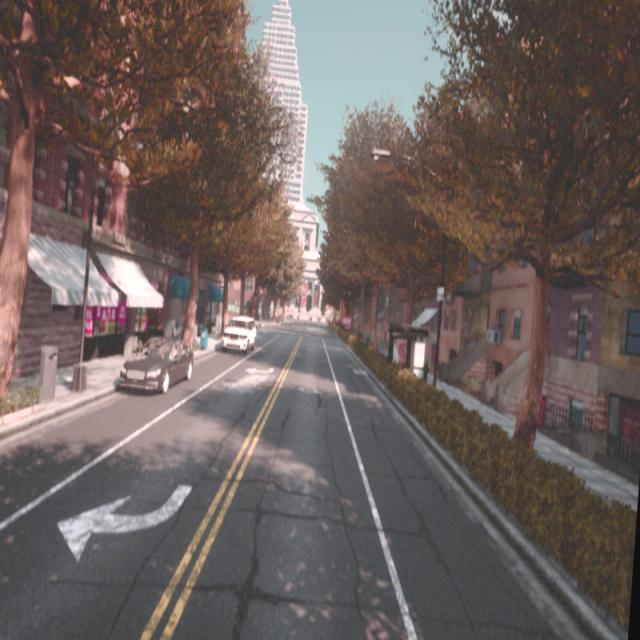stop sign: (342, 312, 355, 332)
